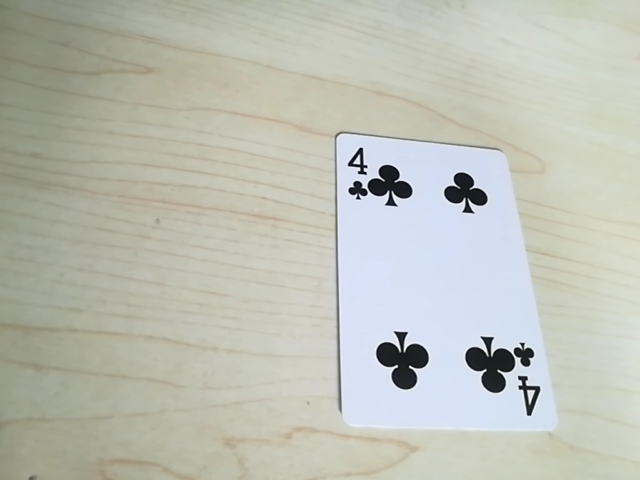mh 4: (506, 338, 542, 417), (339, 142, 377, 209)
